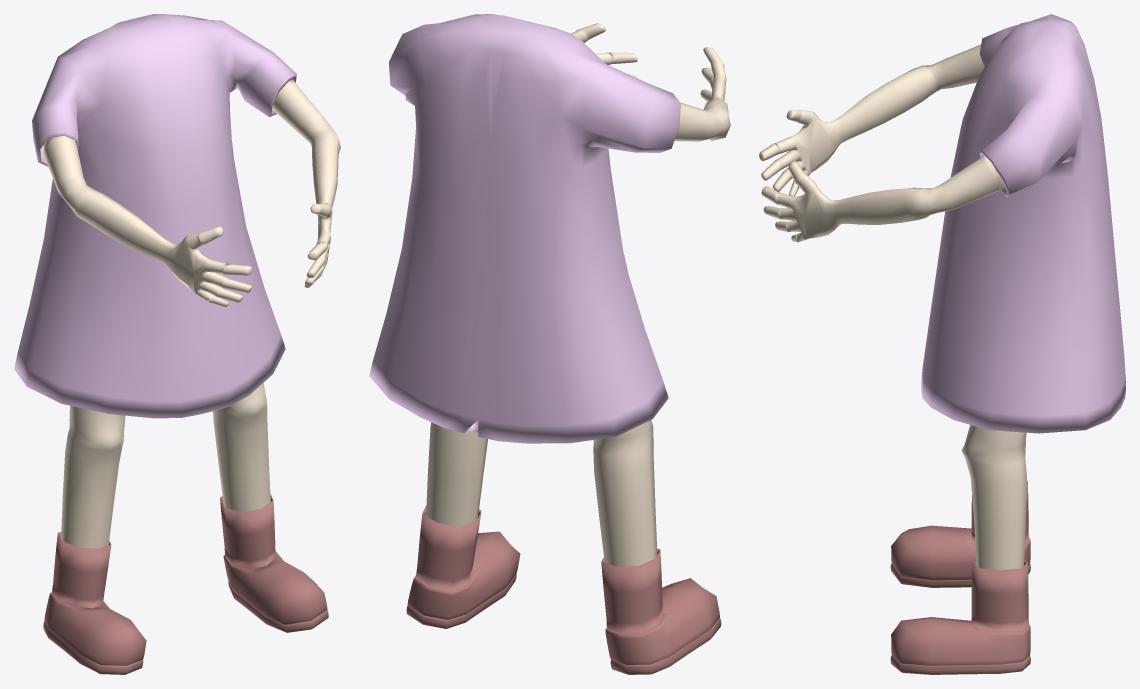
Rendered from GirlAdF.fbx.
3 views of the same model, side by side, from view 1: azimuth 30°, elevation 25°; view 2: azimuth 150°, elevation 25°; view 3: azimuth 270°, elevation 25° (orthographic). The views are drawn at different scales.
Parts seen in each view (by area): view 1: Box02.002, Box03, Box02.001; view 2: Box02.002, Box03, Box02.001; view 3: Box02.002, Box03, Box02.001.
Part boxes in pixels (x1=…): Box02.002: x1=14, y1=14, x2=296, y2=418; Box03: x1=43, y1=383, x2=328, y2=674; Box02.001: x1=43, y1=79, x2=340, y2=307; Box02.002: x1=369, y1=14, x2=680, y2=443; Box03: x1=406, y1=420, x2=721, y2=674; Box02.001: x1=571, y1=23, x2=730, y2=141; Box02.002: x1=921, y1=14, x2=1125, y2=433; Box03: x1=890, y1=425, x2=1030, y2=674; Box02.001: x1=759, y1=44, x2=1004, y2=242.
Bounding box in the file's own units: 745 × 1516 × 860.
